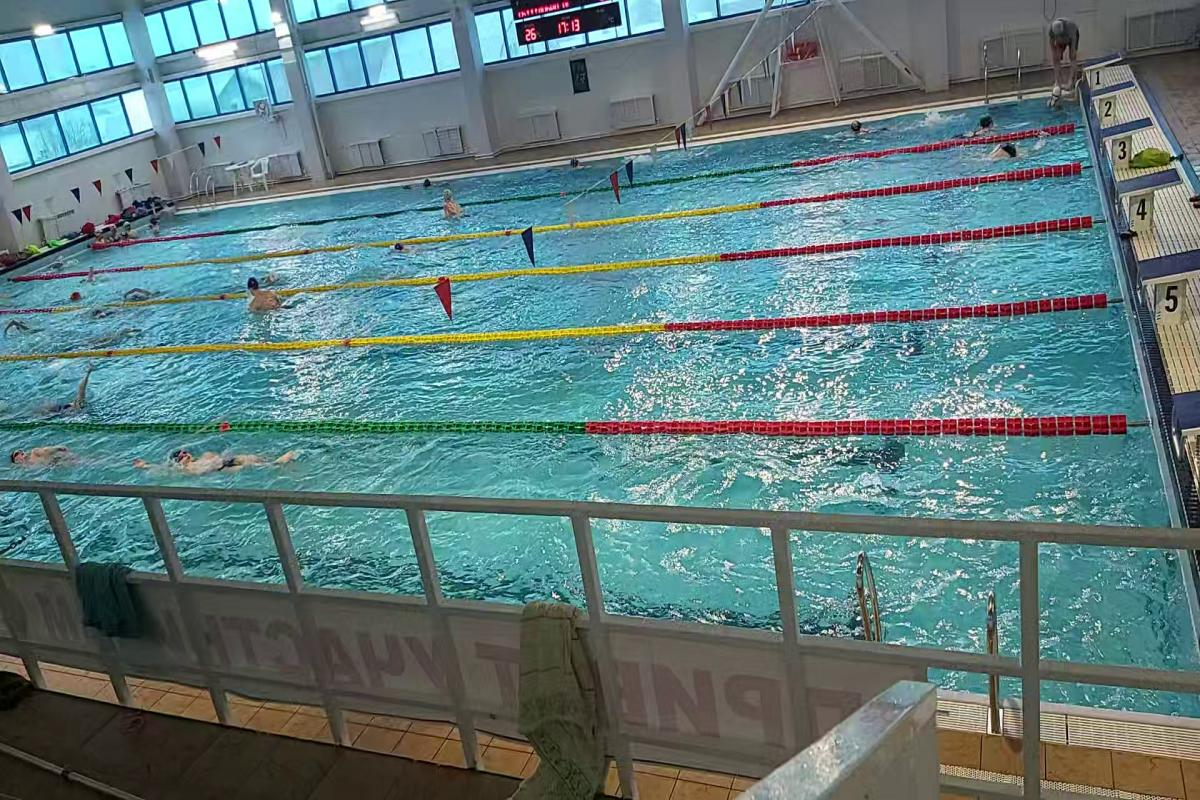swimmer: (128, 439, 309, 479), (236, 275, 308, 325), (3, 438, 101, 473), (33, 367, 100, 416), (978, 138, 1034, 169), (379, 236, 426, 264), (438, 189, 470, 224)
